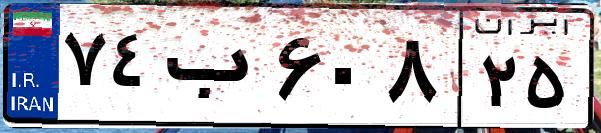0: (330, 28, 385, 110)
2: (475, 38, 525, 113)
4: (110, 28, 158, 98)
5: (525, 38, 570, 115)
6: (270, 28, 330, 110)
7: (57, 26, 110, 100)
8: (385, 28, 445, 110)
ب: (158, 20, 270, 120)
